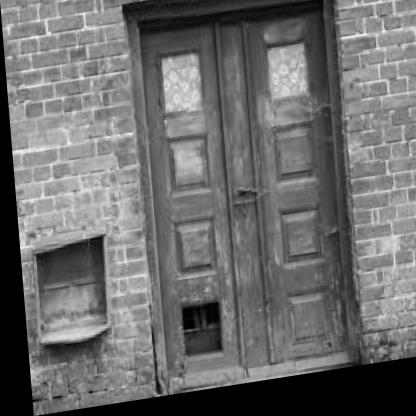door: (135, 11, 342, 384)
